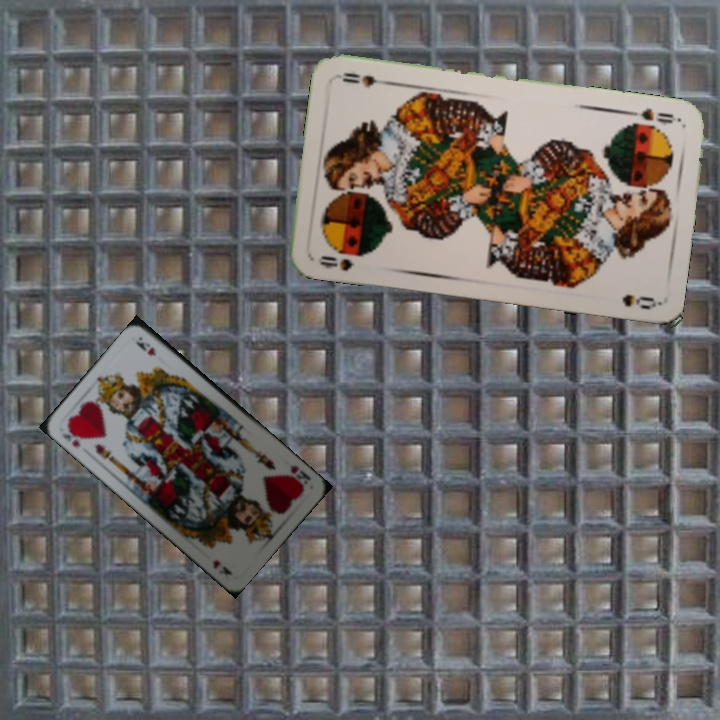HK: (58, 421, 85, 450), (286, 461, 313, 487)
SO: (624, 104, 676, 127), (314, 251, 357, 274)
